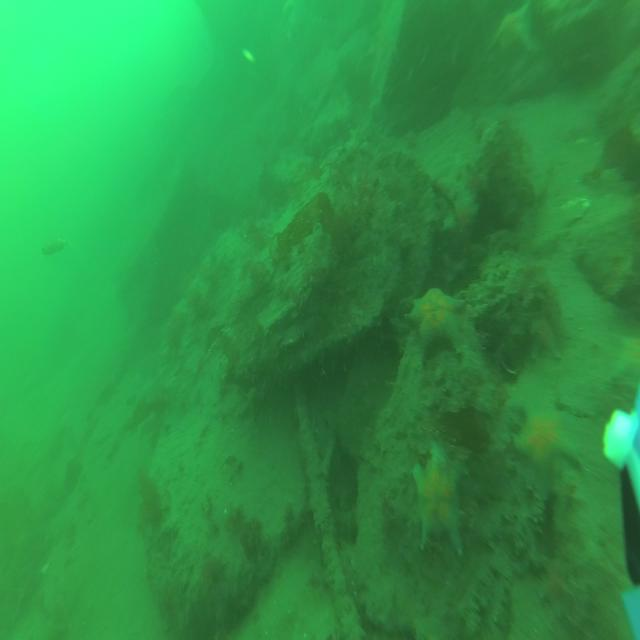holothurian: (298, 104, 349, 150)
starfish: (513, 397, 582, 483), (413, 442, 464, 554), (404, 289, 464, 364), (608, 329, 640, 385)
